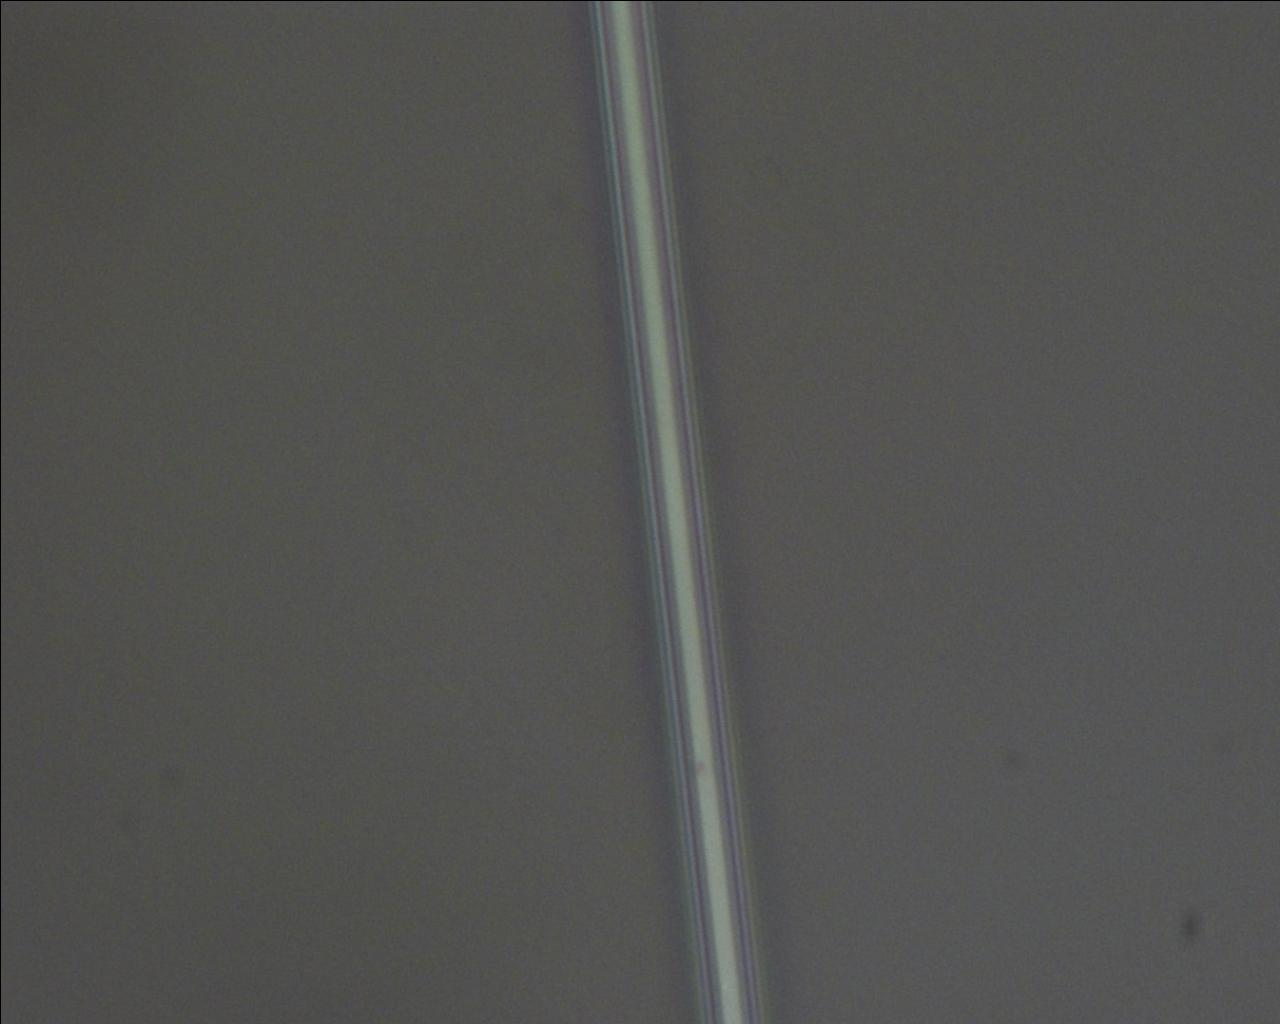fiber: (601, 739, 1188, 1024), (233, 522, 601, 894), (1006, 0, 1161, 522)
